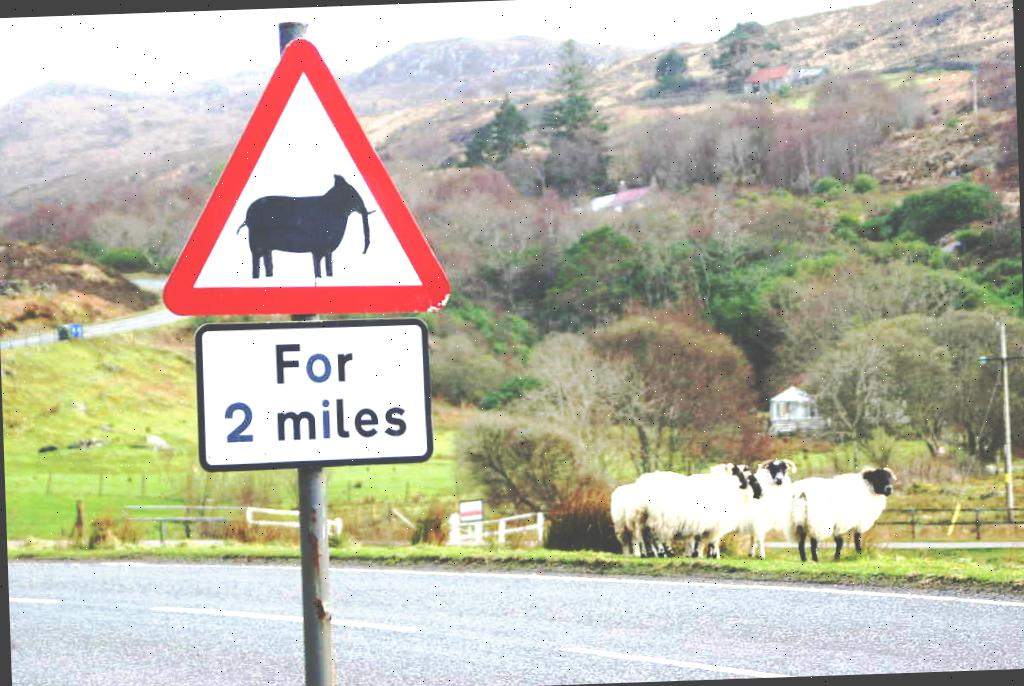Sheep: (779, 465, 901, 573), (607, 474, 766, 555), (627, 460, 750, 556), (755, 459, 804, 562)
